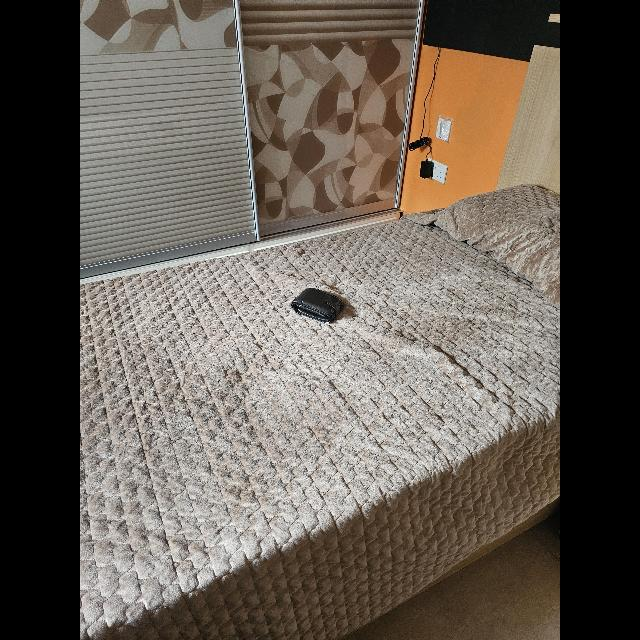Wallet: (292, 287, 344, 323)
